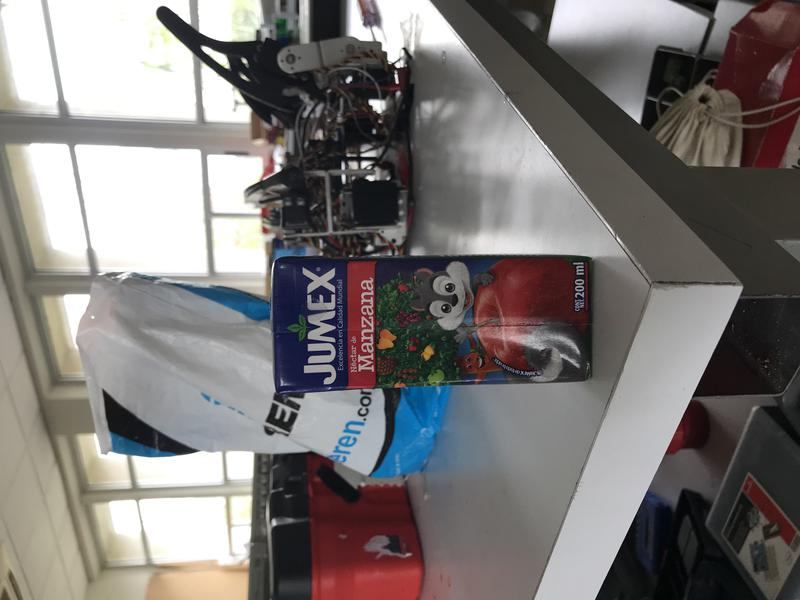jumex_cajita: (269, 256, 597, 392)
